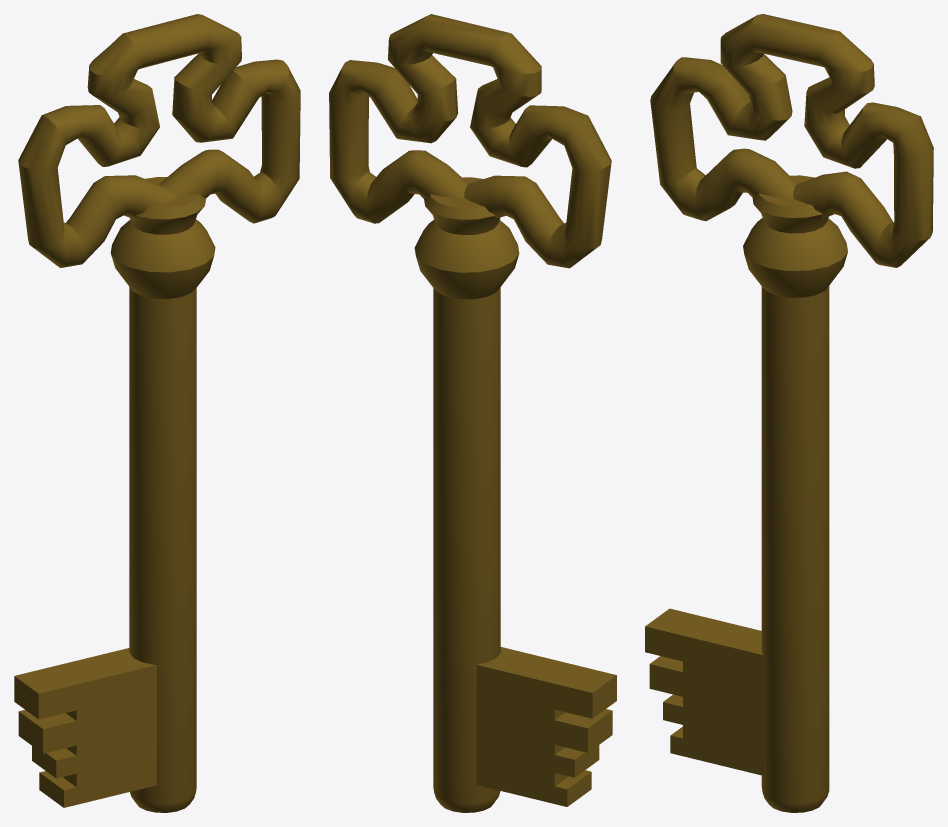
File: BiggerKey.fbx
The picture shows the model from 3 angles, left to right: view 1: azimuth 30°, elevation 25°; view 2: azimuth 150°, elevation 25°; view 3: azimuth 330°, elevation 25°; orthographic projection.
Parts seen in each view (by area): view 1: BiggerKey; view 2: BiggerKey; view 3: BiggerKey.
Part boxes in pixels (bbox=[...]): BiggerKey: bbox=[14, 14, 300, 812]; BiggerKey: bbox=[329, 14, 616, 812]; BiggerKey: bbox=[645, 14, 933, 812].
Bounding box in the file's own units: 37.51 × 101 × 12.42.
